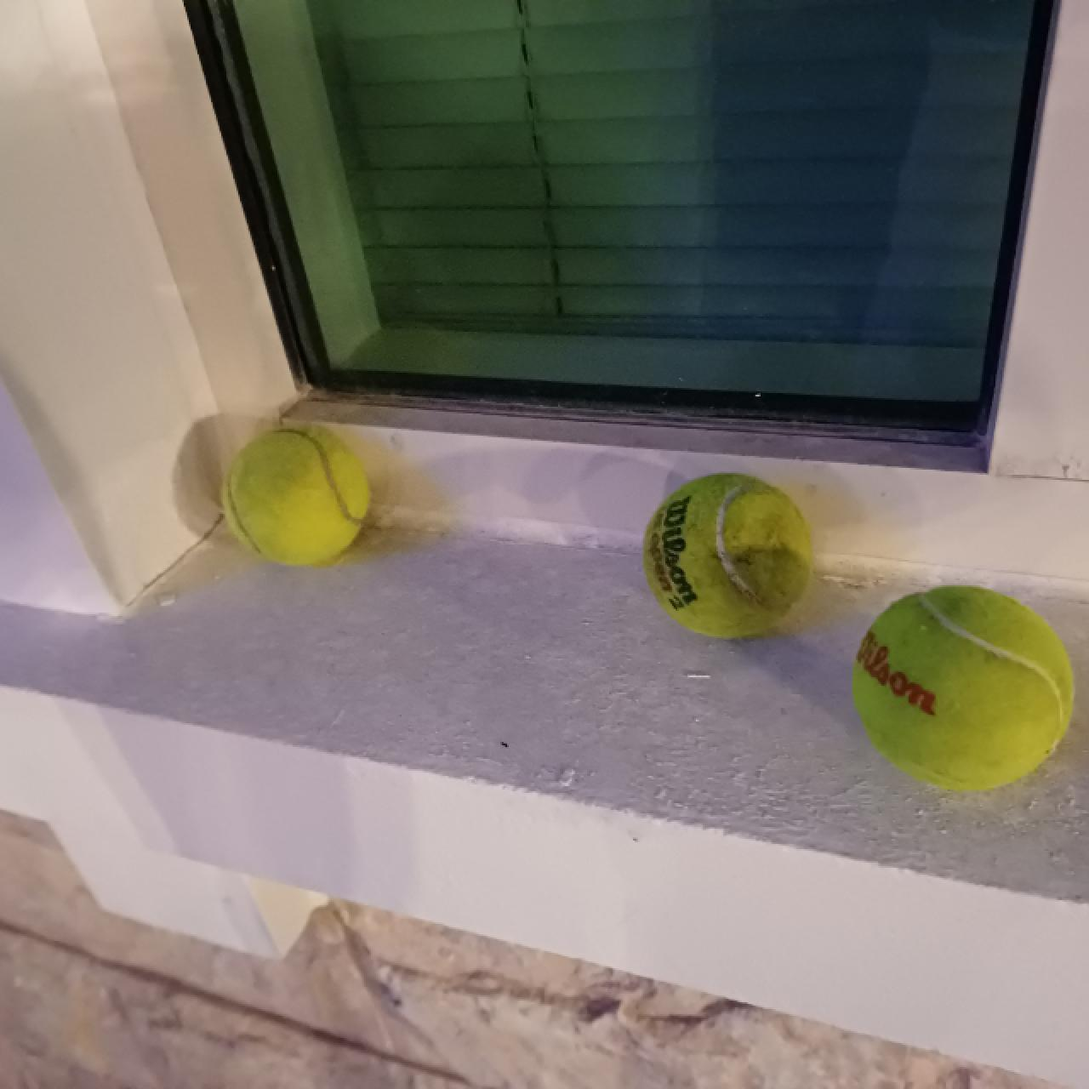tennis-ball: (851, 582, 1074, 792), (642, 470, 810, 640), (221, 421, 370, 566)
